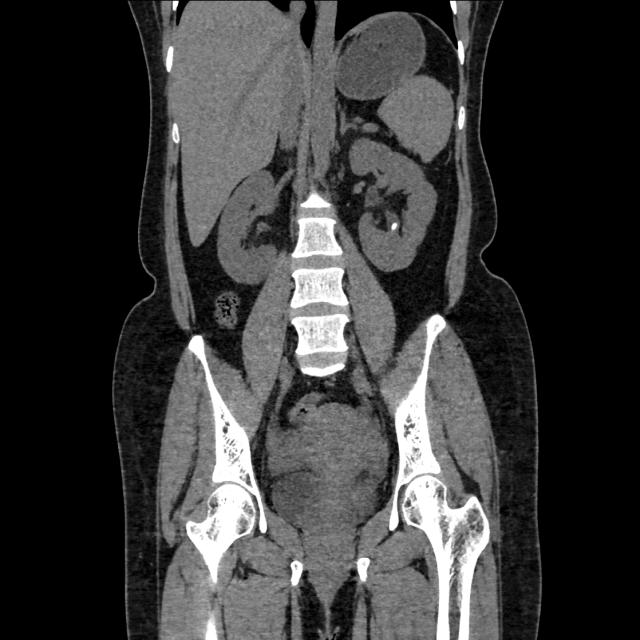kidney: (347, 138, 443, 280), (218, 168, 282, 290)
stone: (389, 218, 399, 239)
